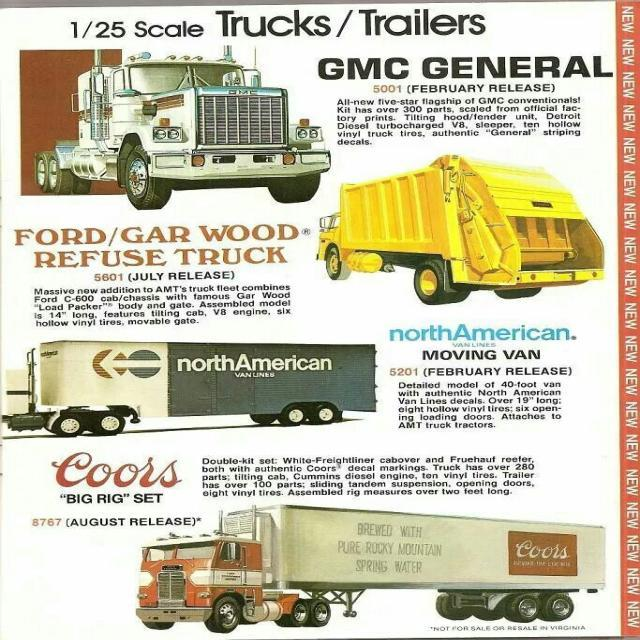traffic light: (134, 502, 606, 632), (34, 44, 331, 210), (314, 153, 606, 304), (4, 340, 376, 438)
